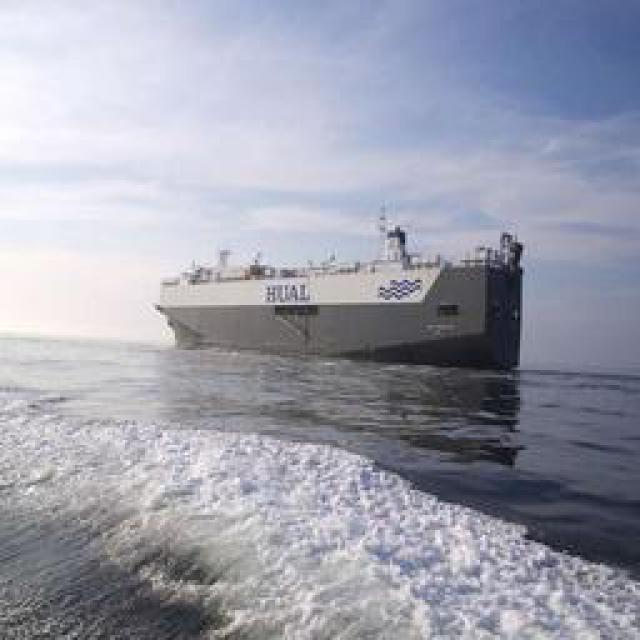Ship: (154, 222, 529, 355)
